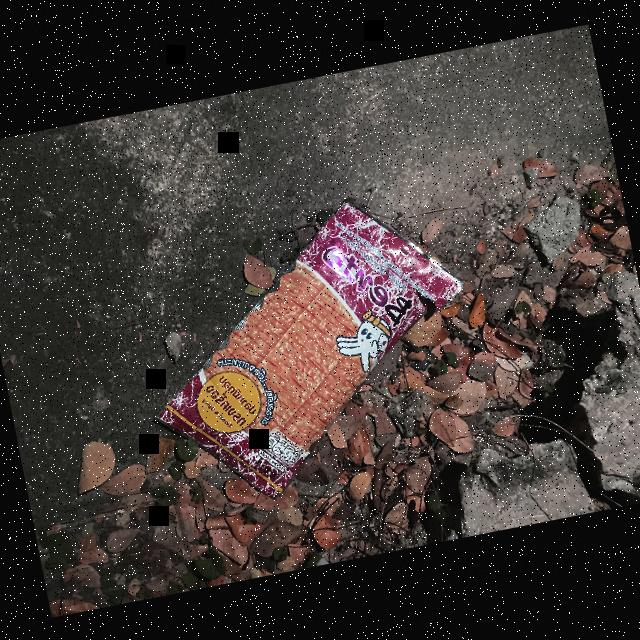snack_bag: (113, 172, 504, 531)
